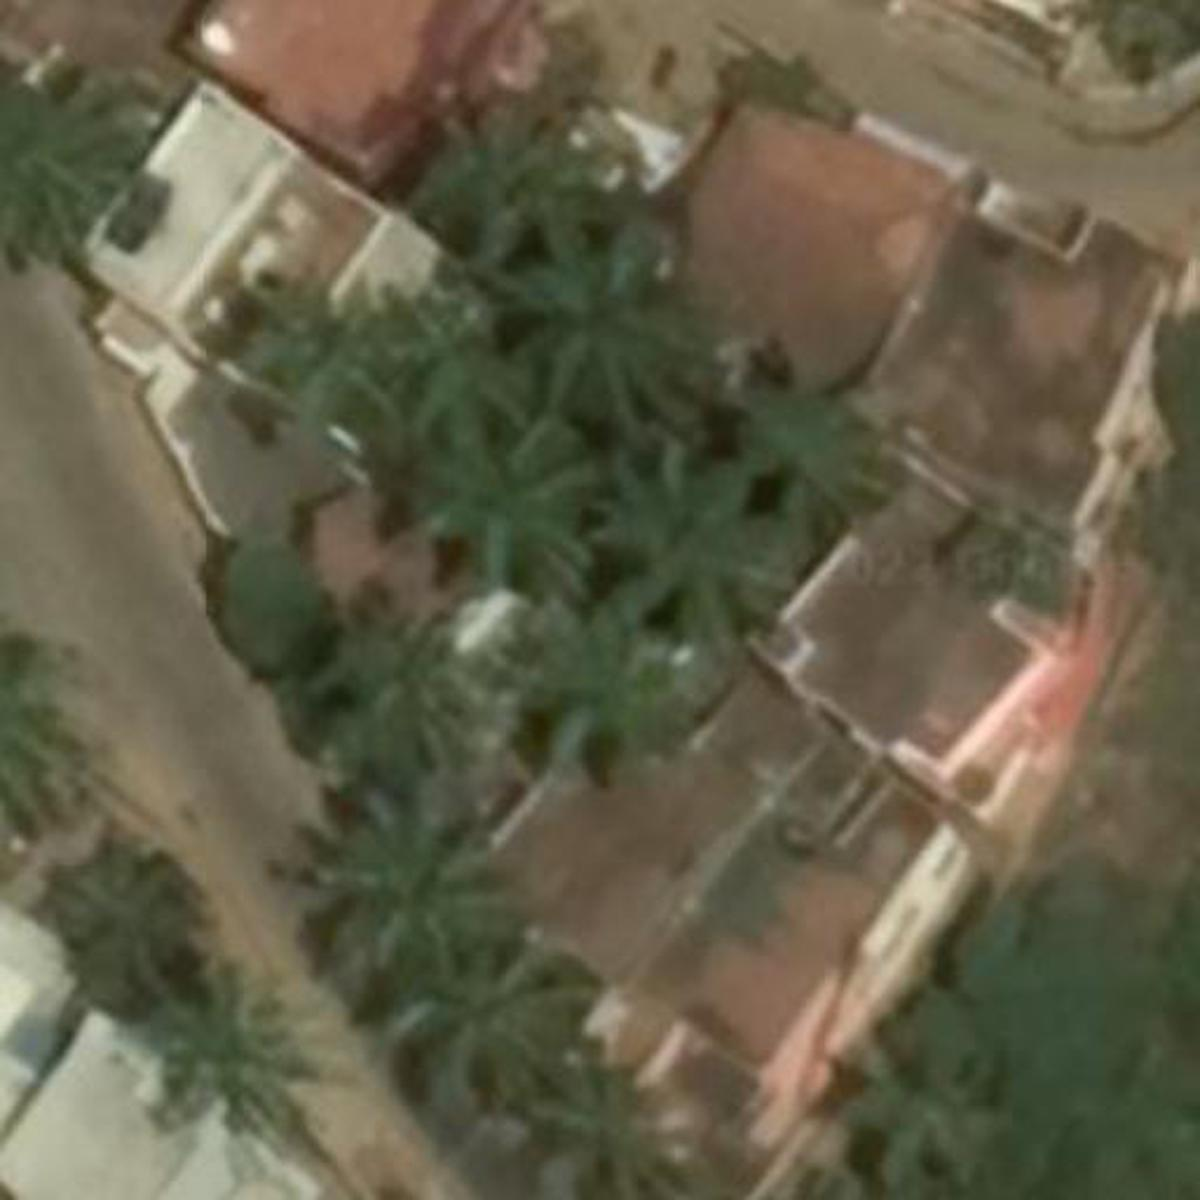coconut: (495, 234, 726, 454), (300, 795, 532, 1012), (416, 110, 644, 274), (600, 462, 796, 638), (419, 435, 616, 600), (843, 1014, 1019, 1192), (508, 604, 684, 782), (398, 953, 597, 1105), (9, 73, 159, 257), (342, 607, 489, 792), (145, 973, 311, 1136), (49, 848, 215, 1010), (742, 386, 907, 538), (370, 285, 520, 438), (251, 292, 410, 433), (527, 1064, 700, 1190)
